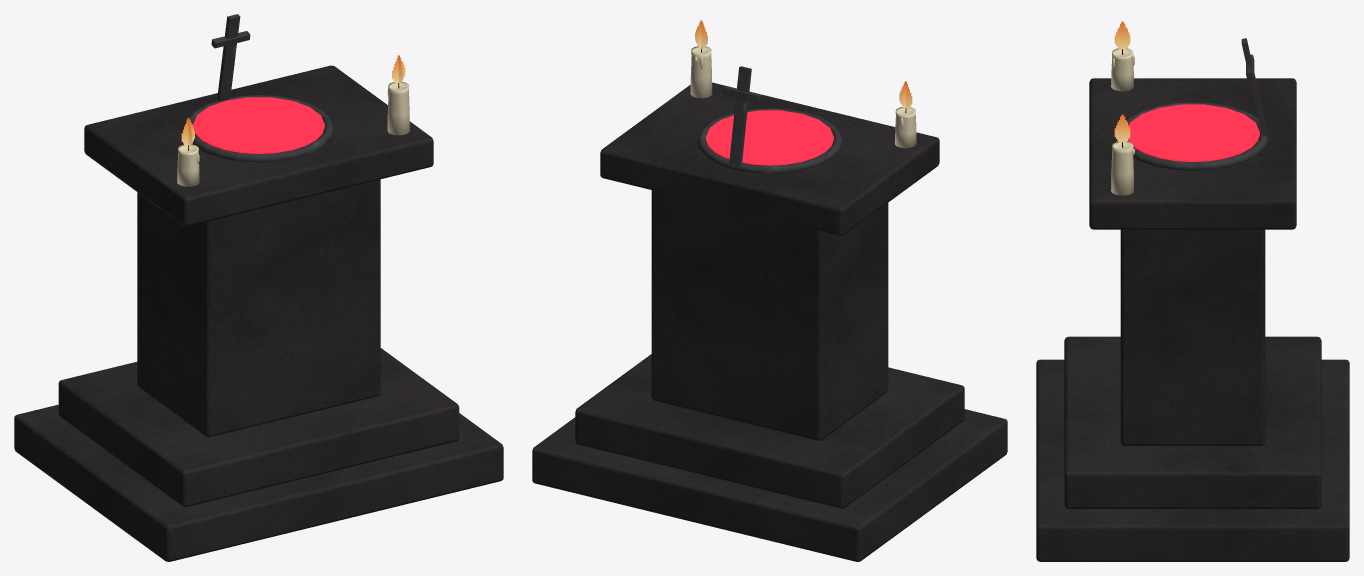
File: stakePact.glb
3 renders of one model, left to right at view 1: azimuth 30°, elevation 25°; view 2: azimuth 150°, elevation 25°; view 3: azimuth 270°, elevation 25°, orthographic. The views are drawn at different scales.
Parts seen in each view (by area): view 1: stakePact; view 2: stakePact; view 3: stakePact.
Boxes of the visible parts, box(x1,y1,x2,y2) form: stakePact: box(14, 14, 503, 561); stakePact: box(532, 20, 1007, 561); stakePact: box(1036, 21, 1349, 561).
Size of the model in its own units: 0.9502 by 1.16 by 0.7502.
6 materials, 4 textured.
